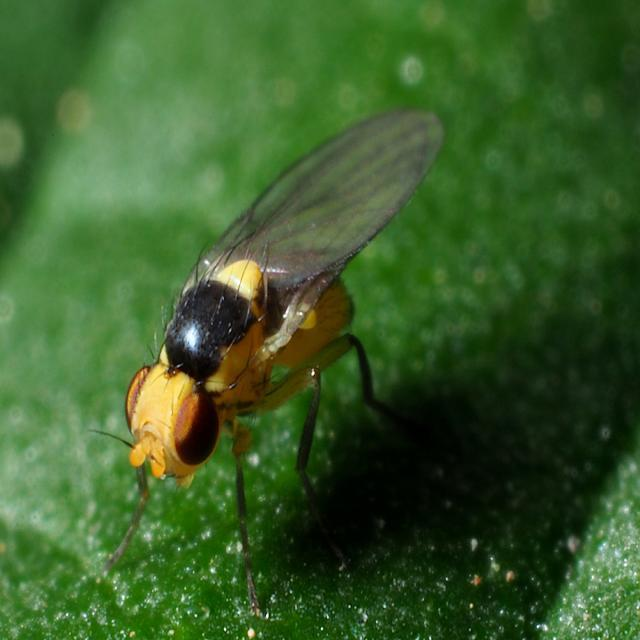Serpentine leafminer: (87, 103, 453, 631)
